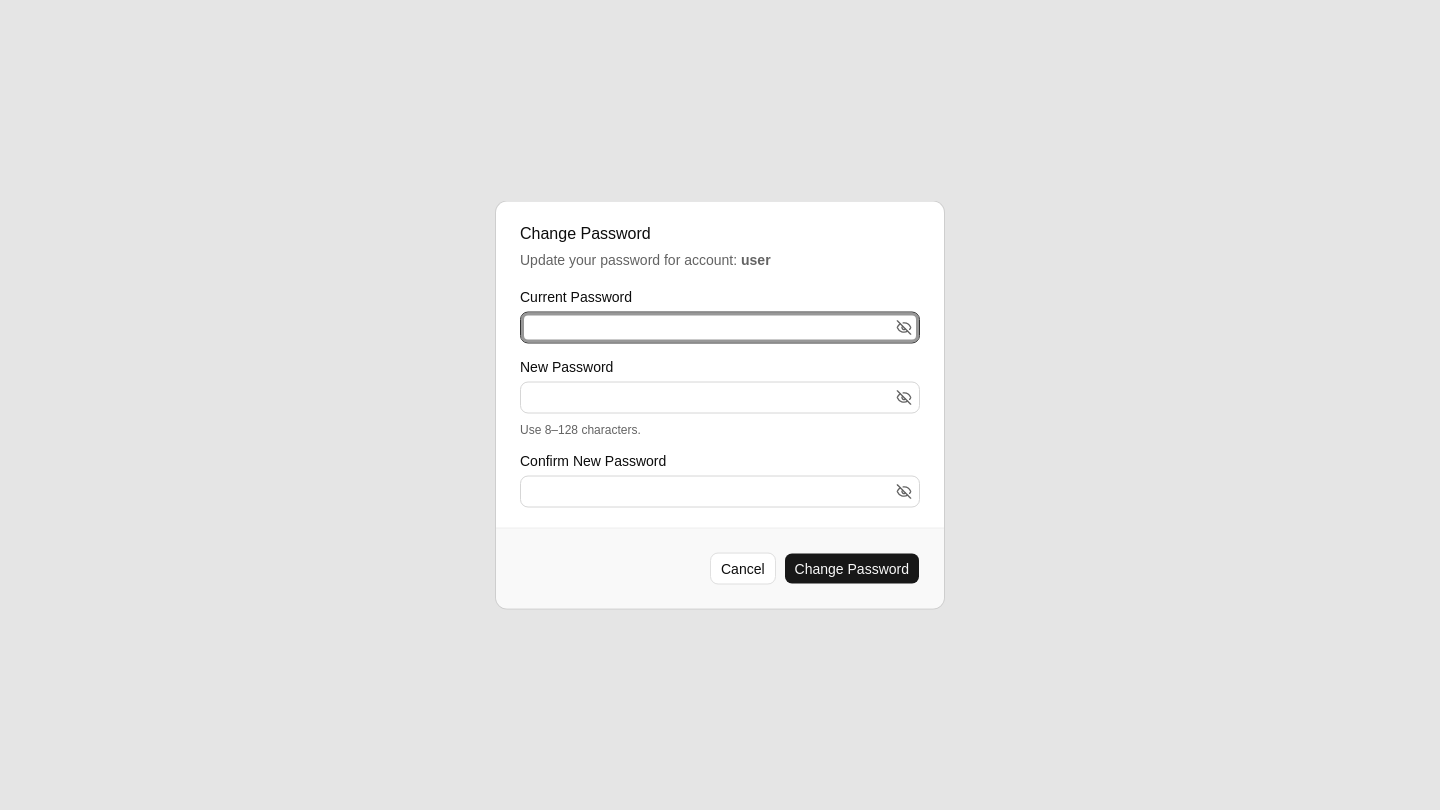
Test: cancels additional verification and restores focus using escape
Step 1. Type "current-password" into the password field labelled "Current Password" → {"x": 720, "y": 328}, box [520,312,920,344]
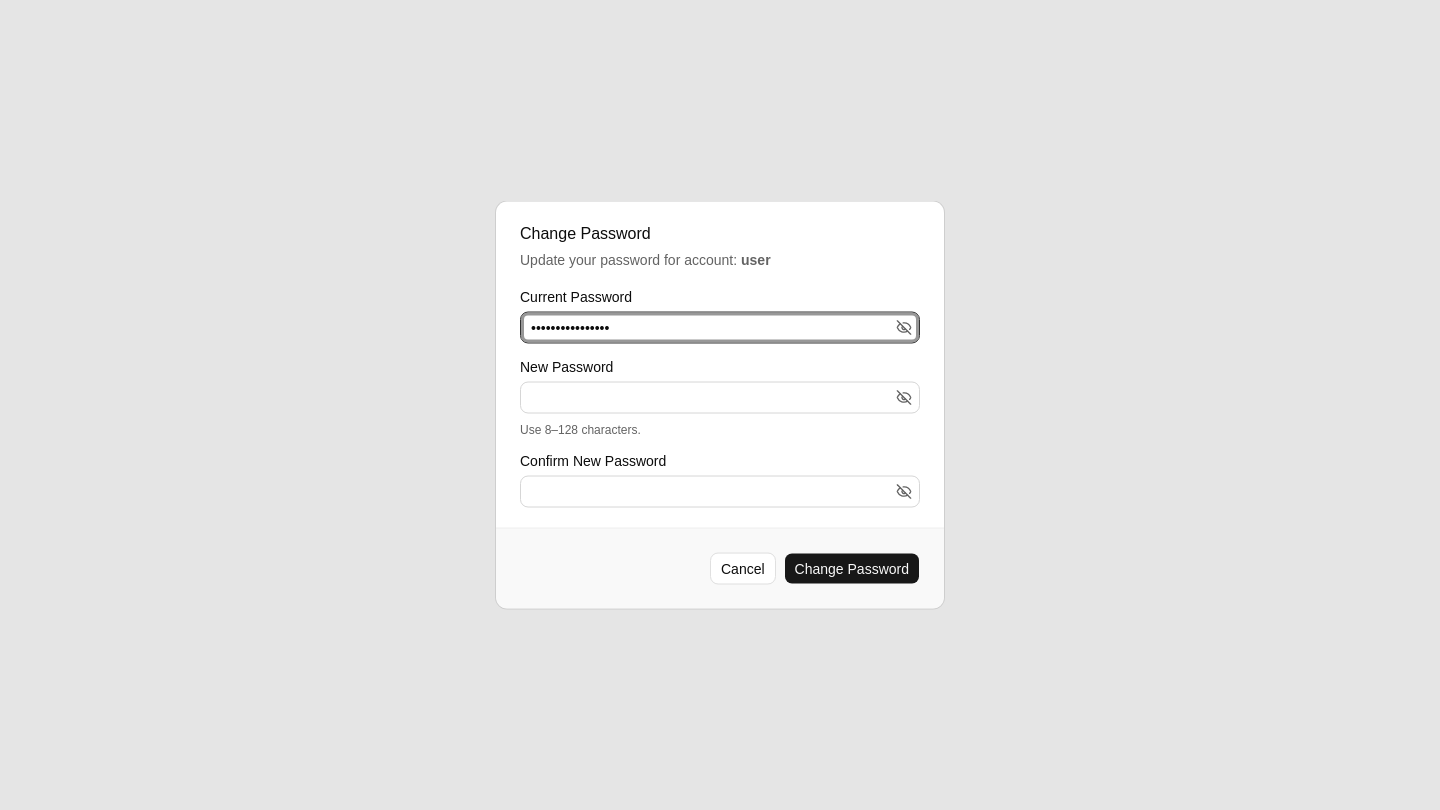
Step 2. Type "account-password!42" into the password field labelled "New Password" → {"x": 720, "y": 398}, box [520,382,920,414]
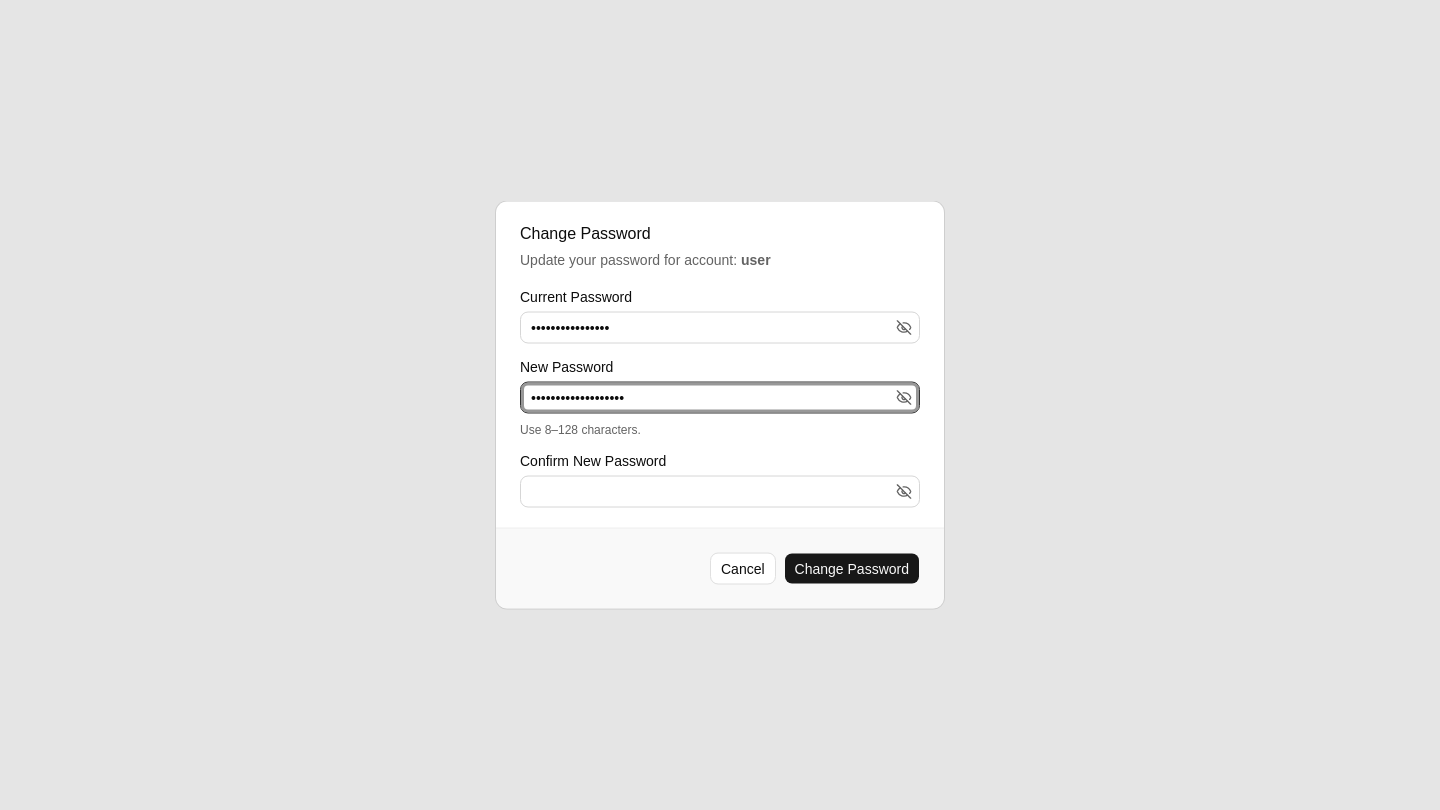
Step 3. Type "account-password!42" into the password field labelled "Confirm New Password" → {"x": 720, "y": 492}, box [520,476,920,508]
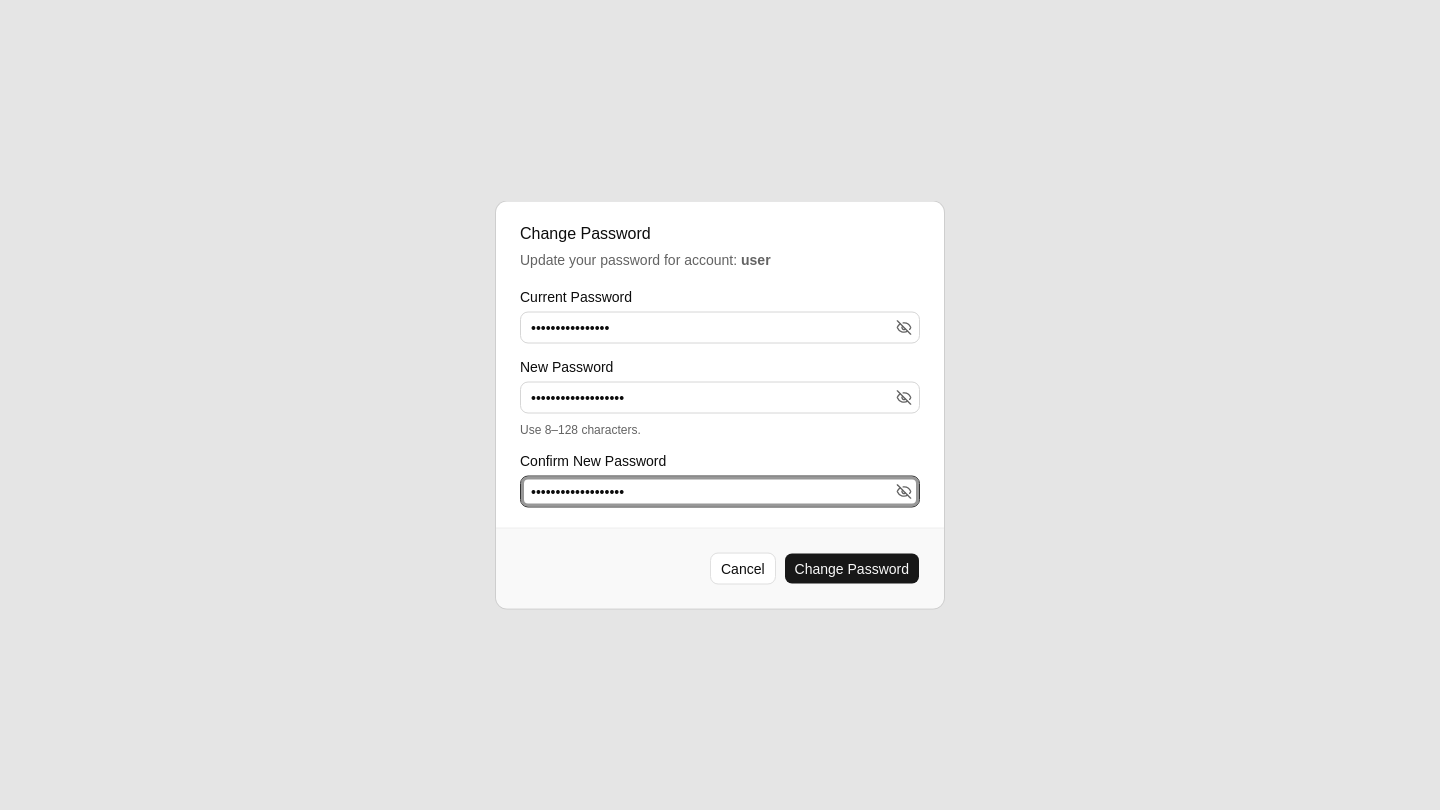
Step 4. Click the button "Change Password" → {"x": 852, "y": 568}, box [784,552,920,584]
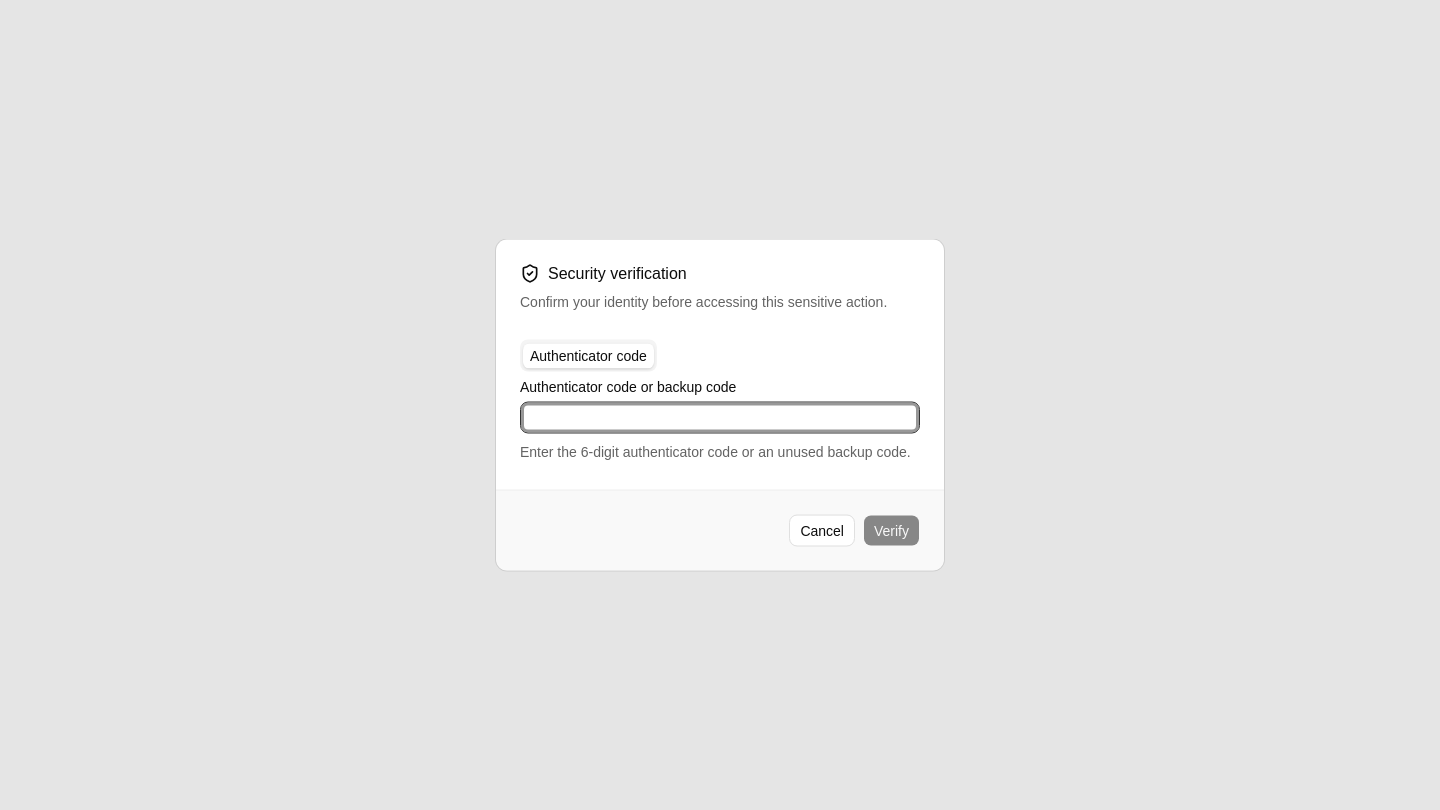
Step 5. Press Escape
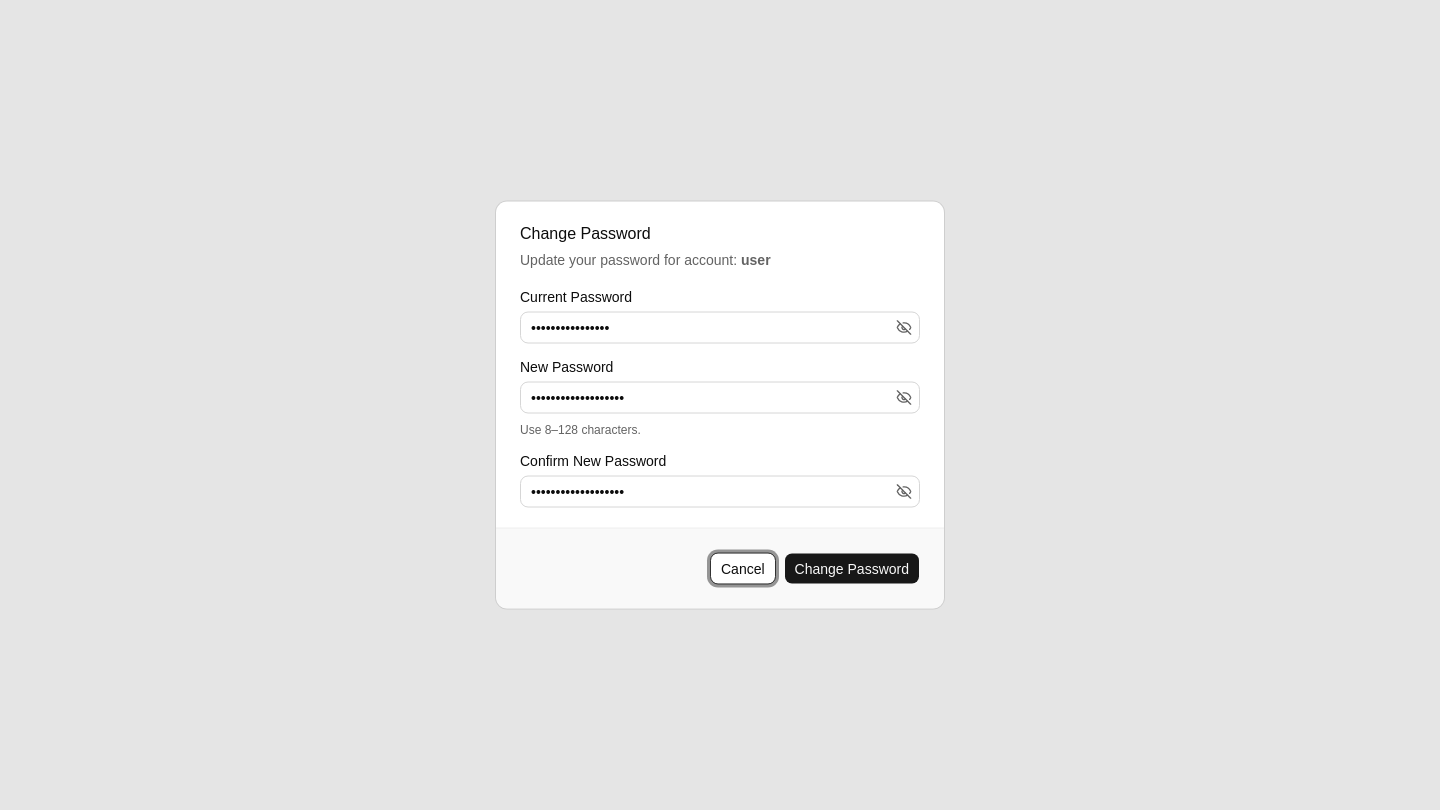
Check: the password field labelled "Current Password" is shown, box [520,312,920,344]
